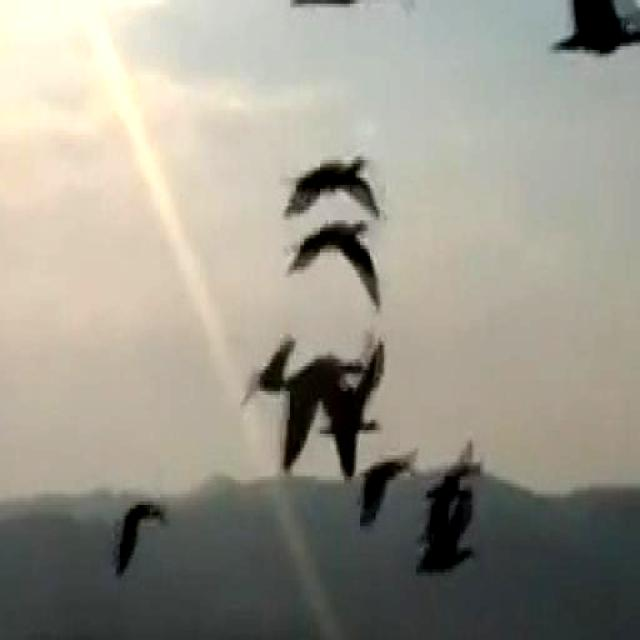airplane: (242, 324, 381, 492), (421, 449, 486, 598), (261, 215, 412, 275), (275, 149, 405, 215), (545, 0, 640, 78), (110, 495, 171, 588)
